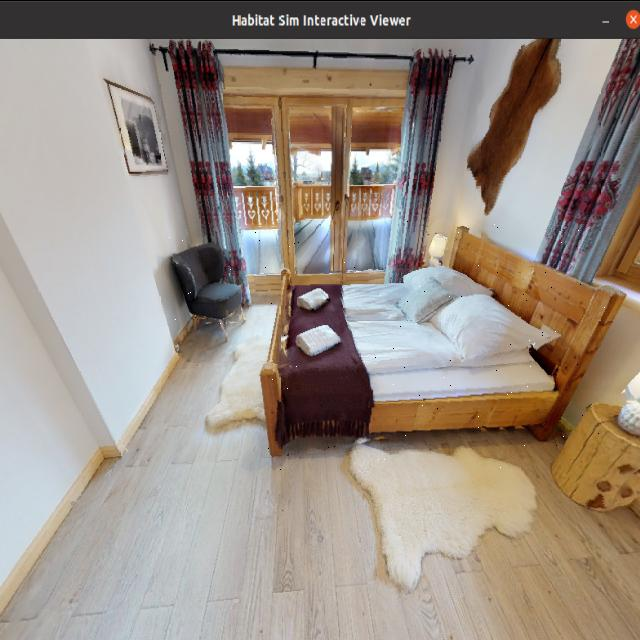bed: (254, 221, 614, 472)
sofa: (165, 230, 258, 344)
